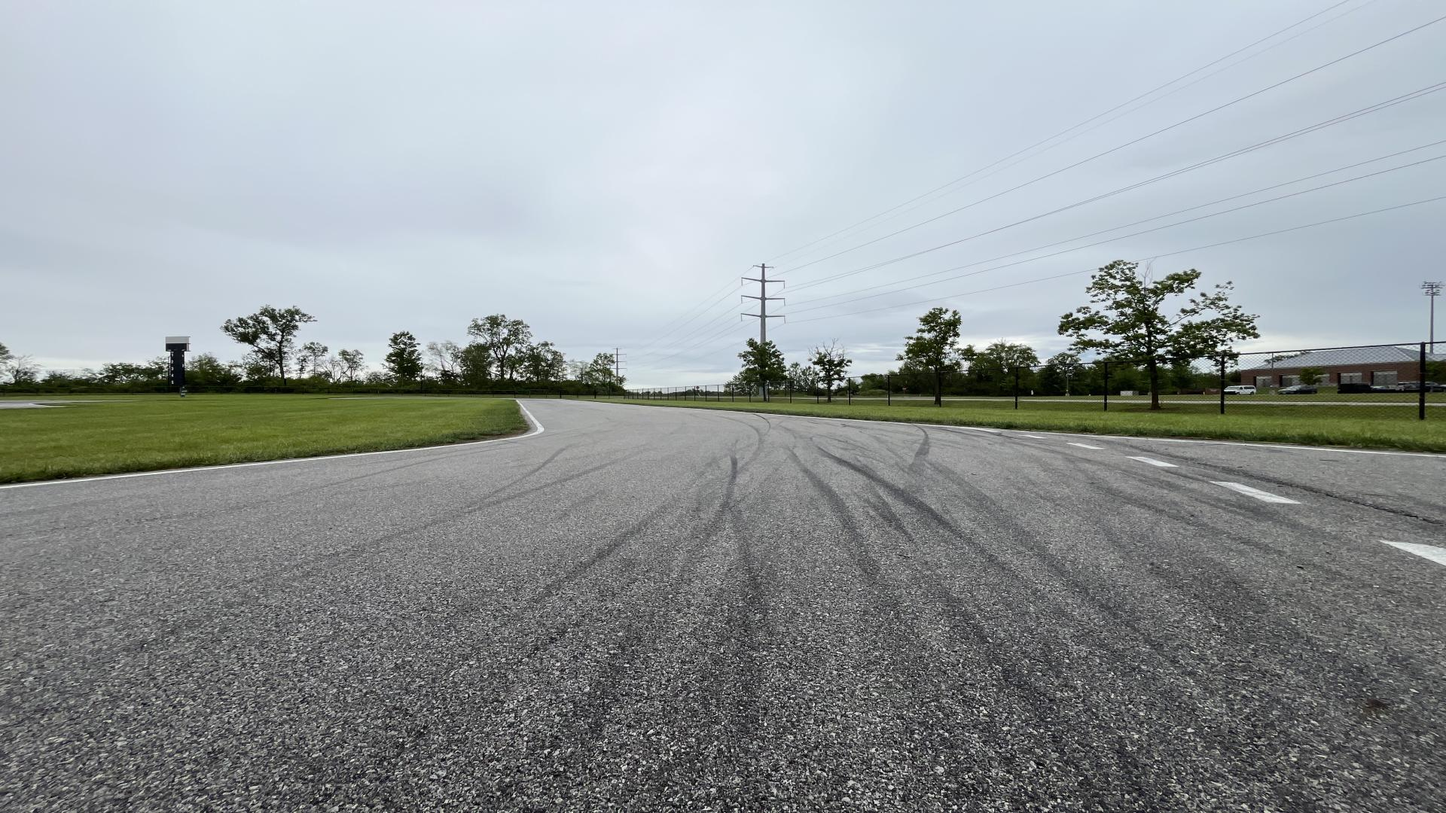white-line: (0, 400, 545, 489), (630, 405, 1445, 457), (1209, 475, 1304, 508), (1384, 537, 1445, 565), (1129, 455, 1177, 467), (1067, 443, 1104, 449), (969, 428, 1001, 431), (1017, 435, 1042, 438)
